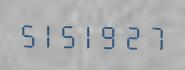five: (17, 18, 37, 49), (59, 19, 79, 49)
nine: (101, 20, 121, 50)
one: (80, 19, 100, 50), (38, 19, 58, 49)
seven: (143, 20, 163, 51)
two: (122, 20, 142, 50)
